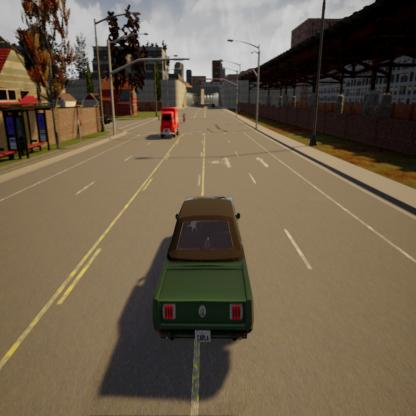Cars: (150, 186, 262, 357), (158, 104, 182, 140)
